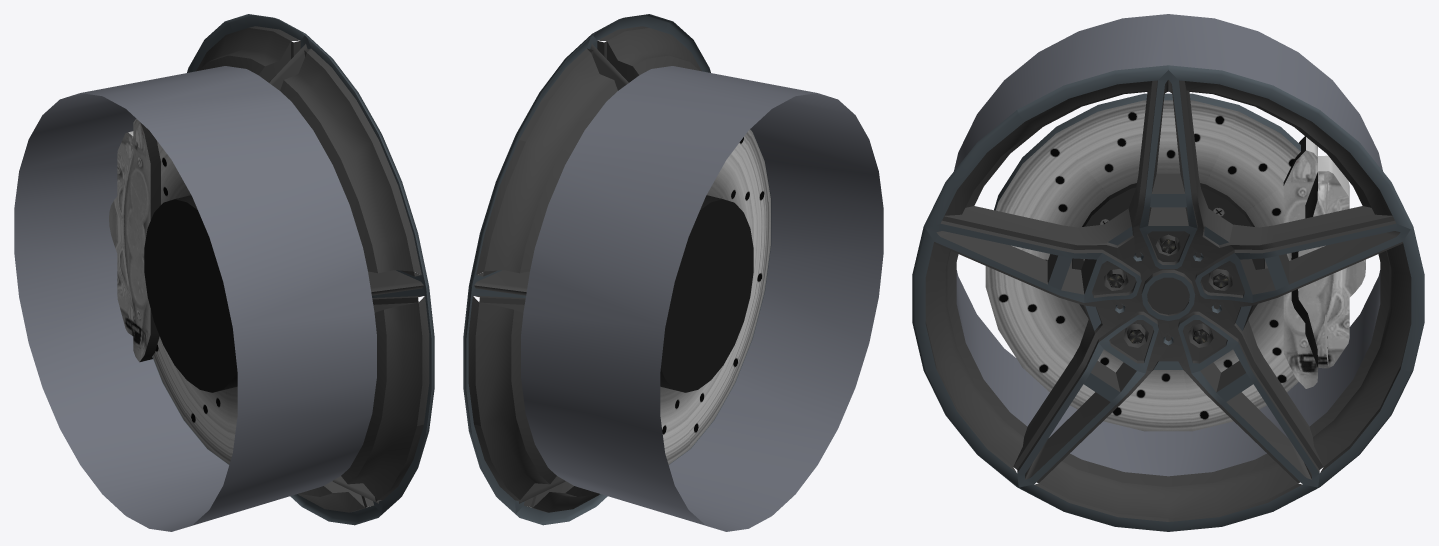
The picture shows the model from 3 angles, left to right: view 1: azimuth 30°, elevation 25°; view 2: azimuth 150°, elevation 25°; view 3: azimuth 270°, elevation 25°; orthographic projection.
Visible parts, largest first — view 1: 170, BrakeDisc, Caliper; view 2: 170, BrakeDisc; view 3: 170, BrakeDisc, Caliper.
Part boxes in pixels (box(x1,y1,x2,y2)): 170: box(14, 14, 434, 531); BrakeDisc: box(144, 140, 237, 464); Caliper: box(109, 119, 160, 362); 170: box(463, 14, 883, 531); BrakeDisc: box(660, 129, 771, 464); 170: box(912, 14, 1424, 531); BrakeDisc: box(985, 93, 1300, 431); Caliper: box(1283, 136, 1365, 388).
Bounding box in the file's own units: 0.223 × 0.539 × 0.536.
